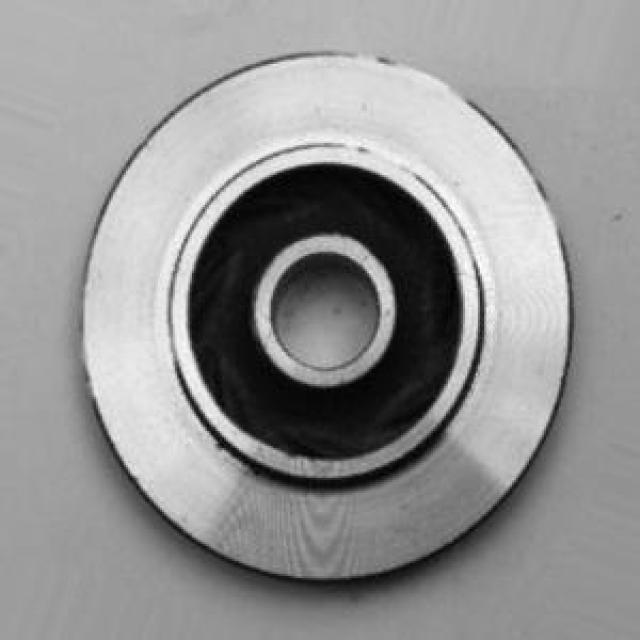Defect: (200, 434, 239, 464)
